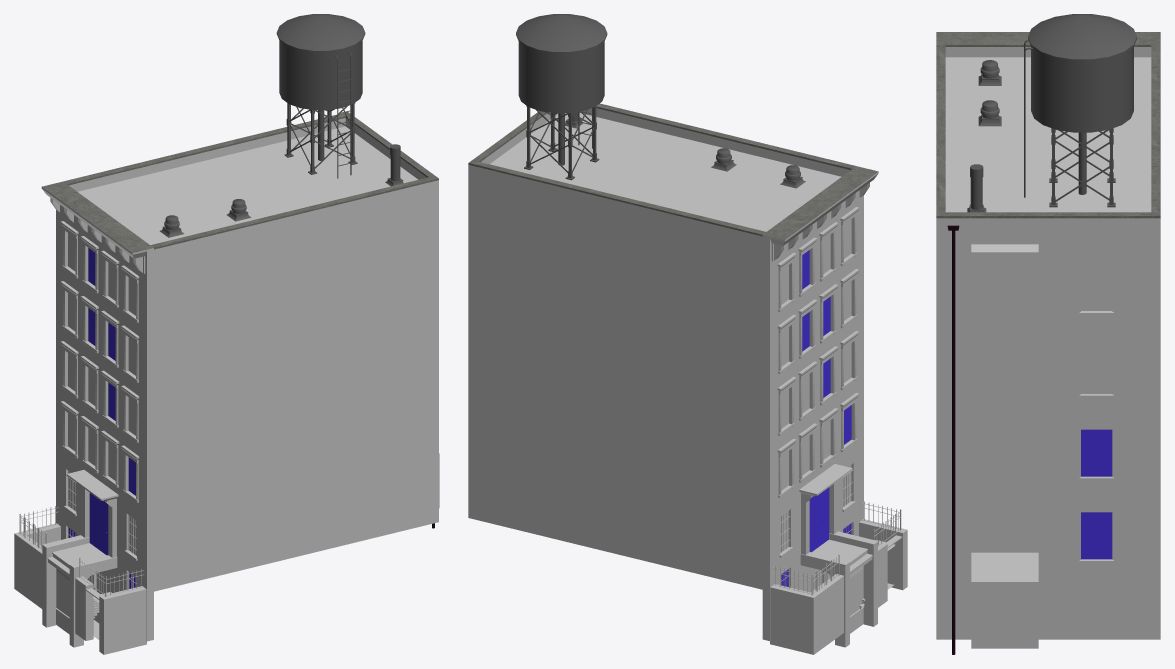
The model's file is mcp_building_16_LOD_0.FBX.
3 views of the same model, side by side, from view 1: azimuth 30°, elevation 25°; view 2: azimuth 150°, elevation 25°; view 3: azimuth 270°, elevation 25° (orthographic). The views are drawn at different scales.
Visible parts, largest first — view 1: mcp_building_16_walls, mcp_building_16_concrete_02, mcp_building_16_roof, mcp_building_16, mcp_building_16_props_03, mcp_building_16_concrete_03, mcp_building_16_metal; view 2: mcp_building_16_walls, mcp_building_16_concrete_02, mcp_building_16_roof, mcp_building_16, mcp_building_16_props_03, mcp_building_16_concrete_03, mcp_building_16_metal; view 3: mcp_building_16_walls, mcp_building_16_roof, mcp_building_16_props_03, mcp_building_16, mcp_building_16_concrete_03, mcp_building_16_concrete_01.
Part boxes in pixels (bbox=[...]): mcp_building_16_walls: bbox=[56, 118, 439, 641]; mcp_building_16_concrete_02: bbox=[14, 221, 146, 654]; mcp_building_16_roof: bbox=[77, 126, 417, 244]; mcp_building_16: bbox=[41, 181, 434, 594]; mcp_building_16_props_03: bbox=[159, 14, 403, 237]; mcp_building_16_concrete_03: bbox=[63, 112, 438, 249]; mcp_building_16_metal: bbox=[19, 471, 144, 596]; mcp_building_16_walls: bbox=[468, 108, 863, 641]; mcp_building_16_concrete_02: bbox=[770, 207, 907, 654]; mcp_building_16_roof: bbox=[490, 113, 841, 231]; mcp_building_16: bbox=[762, 166, 878, 592]; mcp_building_16_props_03: bbox=[516, 14, 805, 188]; mcp_building_16_concrete_03: bbox=[468, 103, 855, 236]; mcp_building_16_metal: bbox=[772, 465, 901, 595]; mcp_building_16_walls: bbox=[936, 47, 1160, 648]; mcp_building_16_roof: bbox=[945, 57, 1151, 212]; mcp_building_16_props_03: bbox=[967, 14, 1136, 212]; mcp_building_16: bbox=[936, 32, 1160, 654]; mcp_building_16_concrete_03: bbox=[936, 45, 1160, 218]; mcp_building_16_concrete_01: bbox=[1079, 311, 1113, 563].
Size of the model in its own units: 2222 by 3288 by 998.
